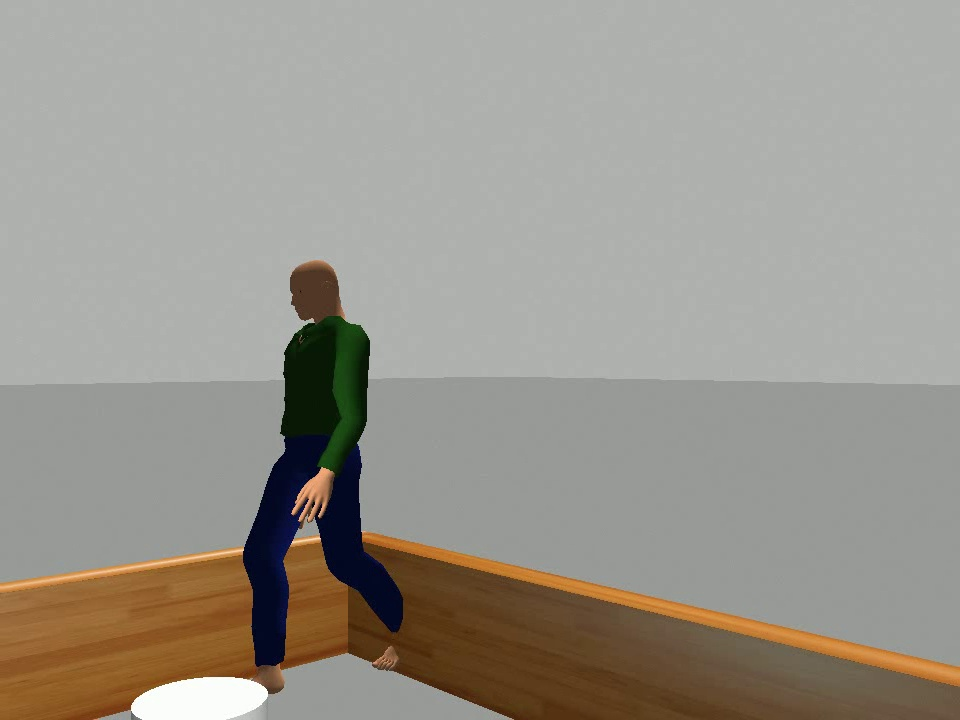person: (236, 257, 406, 695)
